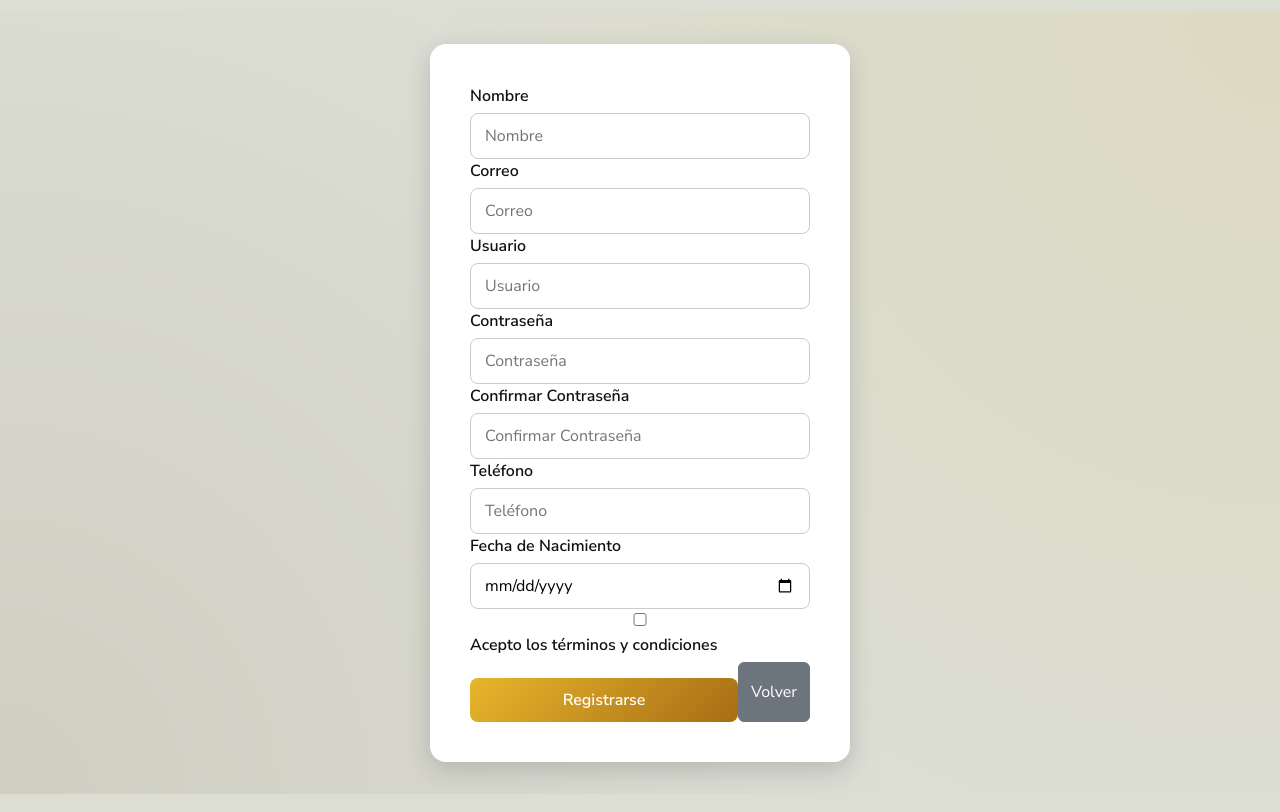
Register Page › Muestra mensaje de error si los campos estan vacios al enviar el formulario
Click the button "Registrarse" at (604, 700), box [470,678,738,722]
(page scrolled)
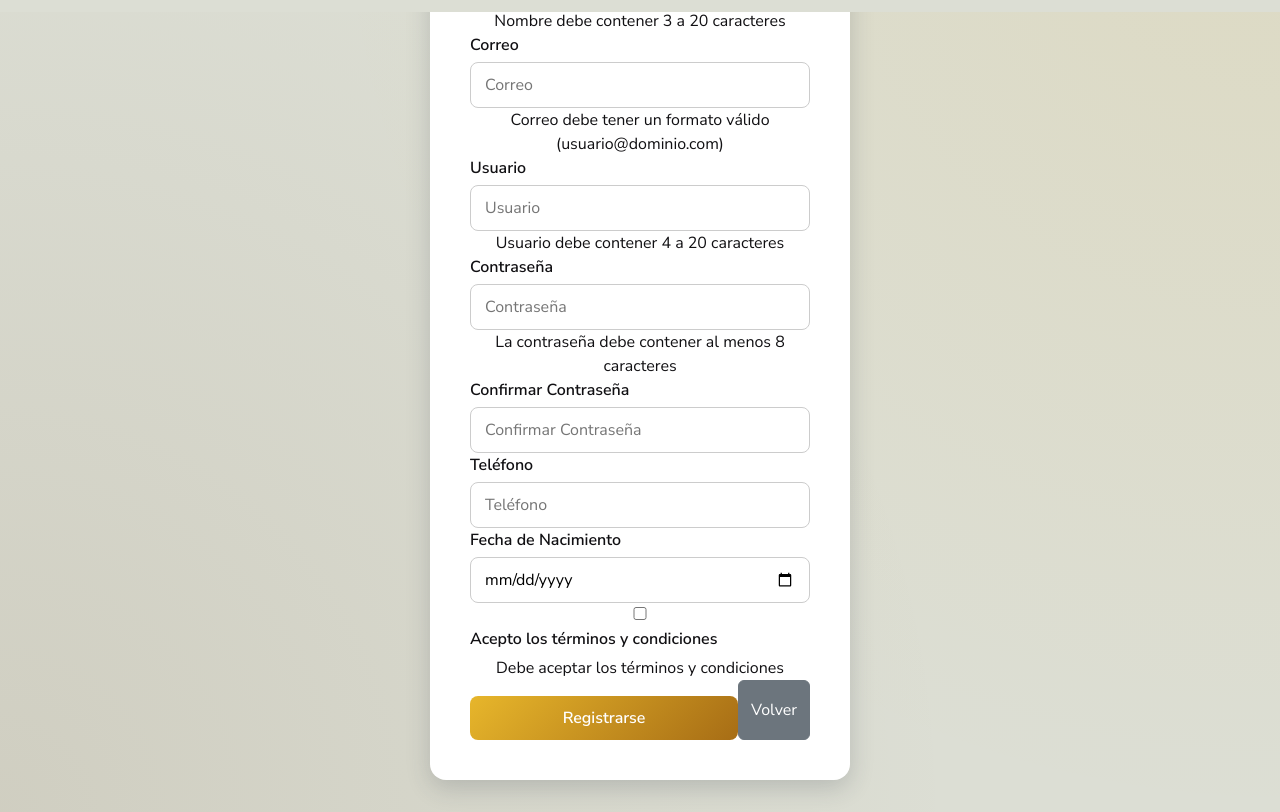
Expected: the text "Correo debe tener un formato válido (usuario@dominio.com)" is shown, [510,109,770,155]
Expected: the text "Usuario debe contener 4 a 20 caracteres" is shown, [496,232,784,254]
Expected: the text "La contraseña debe contener al menos 8 caracteres" is shown, [470,330,810,378]
